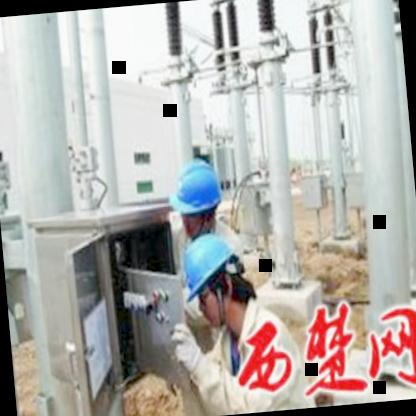helmet: (177, 228, 251, 327), (168, 156, 227, 242)
